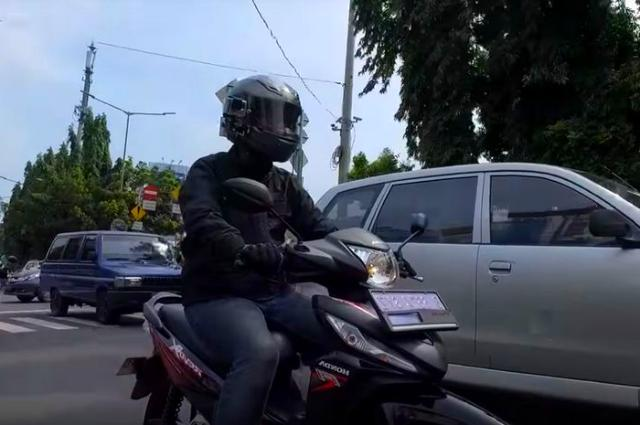helm: (218, 73, 306, 166)
motor: (116, 176, 508, 425)
